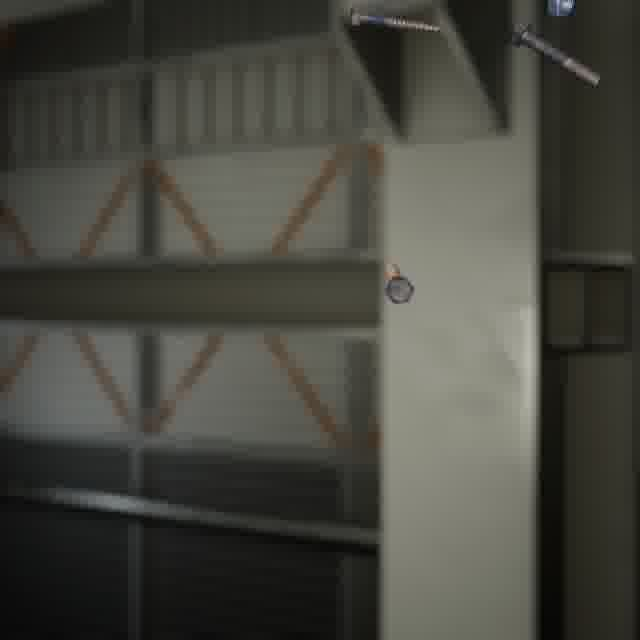bolt: (504, 15, 606, 92), (344, 2, 448, 38), (380, 259, 418, 308)
nut: (542, 0, 579, 23)
